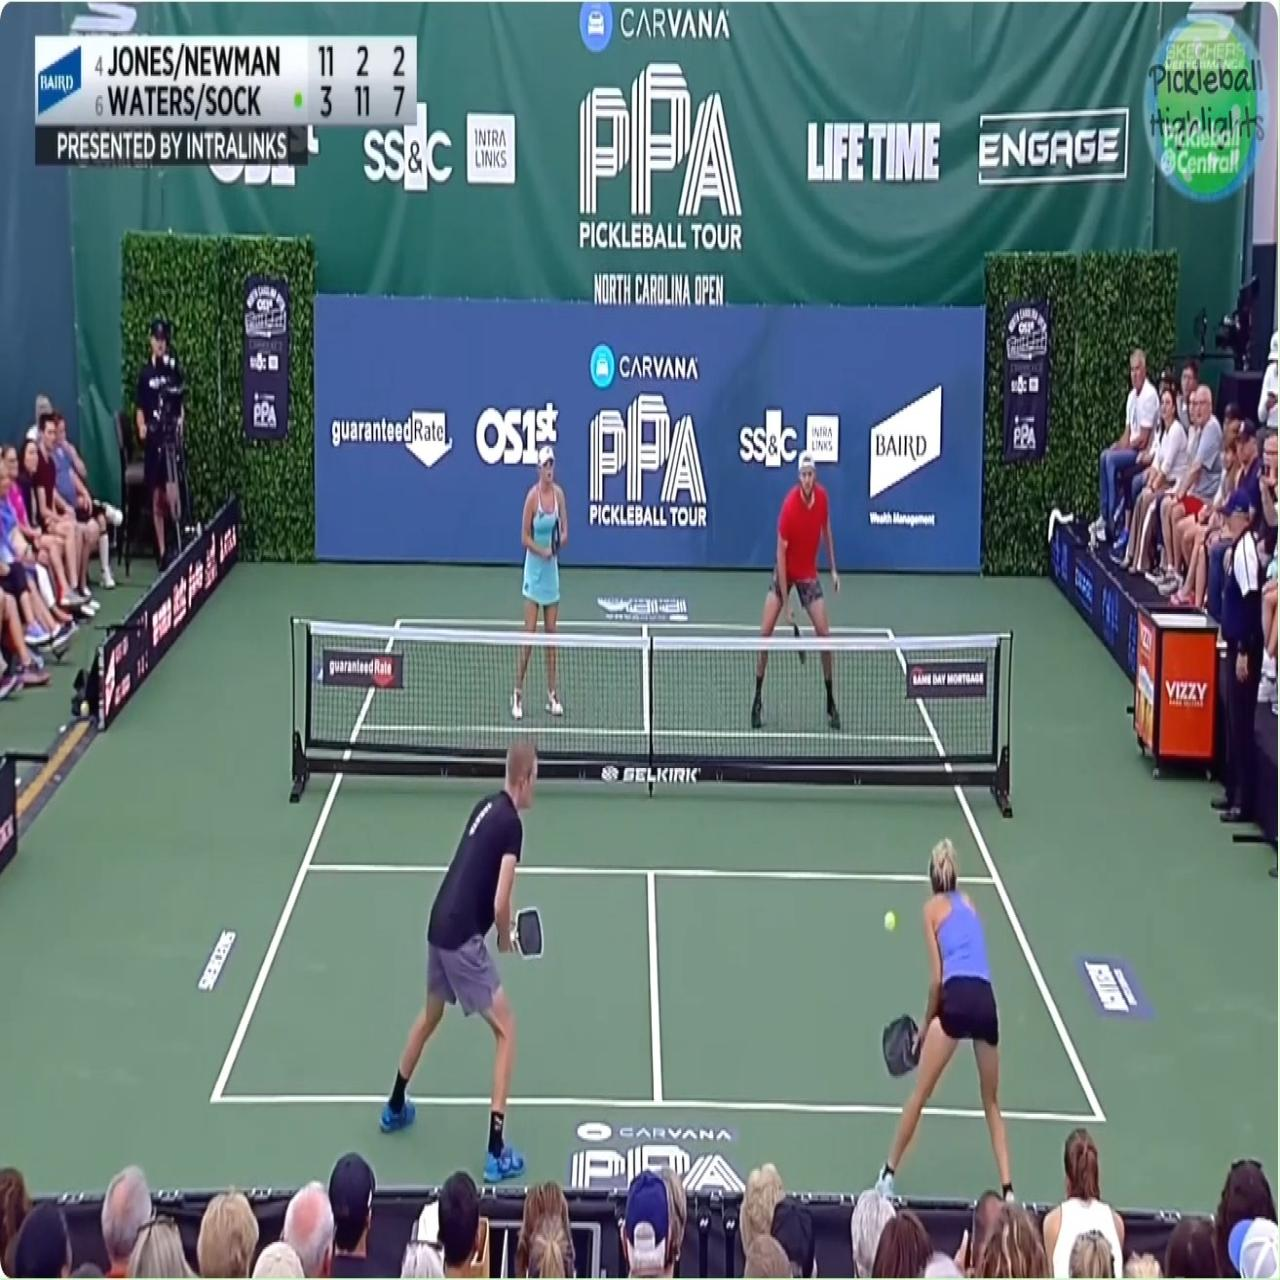pickleball: (884, 910, 897, 931)
